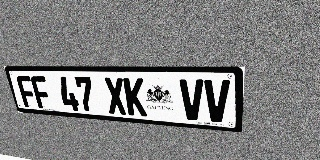4: (57, 76, 80, 111)
7: (73, 77, 97, 113)
F: (30, 76, 53, 109), (16, 76, 38, 108)
K: (123, 78, 147, 116)
V: (204, 79, 230, 123), (179, 79, 204, 121)
X: (103, 77, 127, 115)
